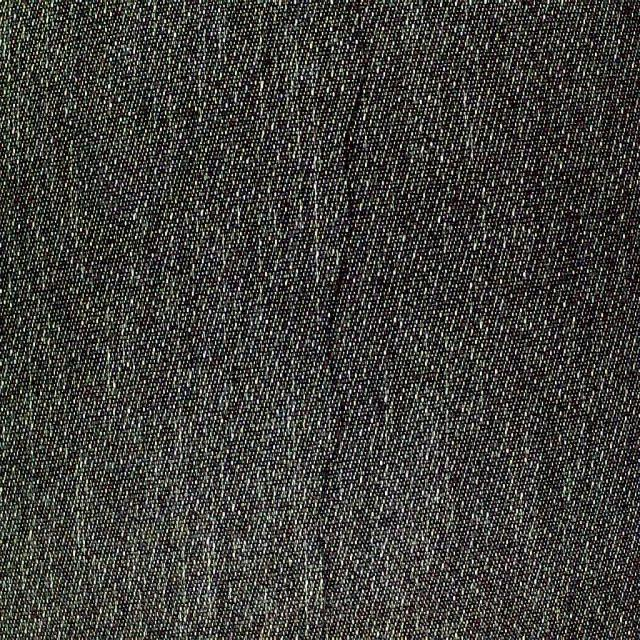defect: (311, 6, 377, 506)
